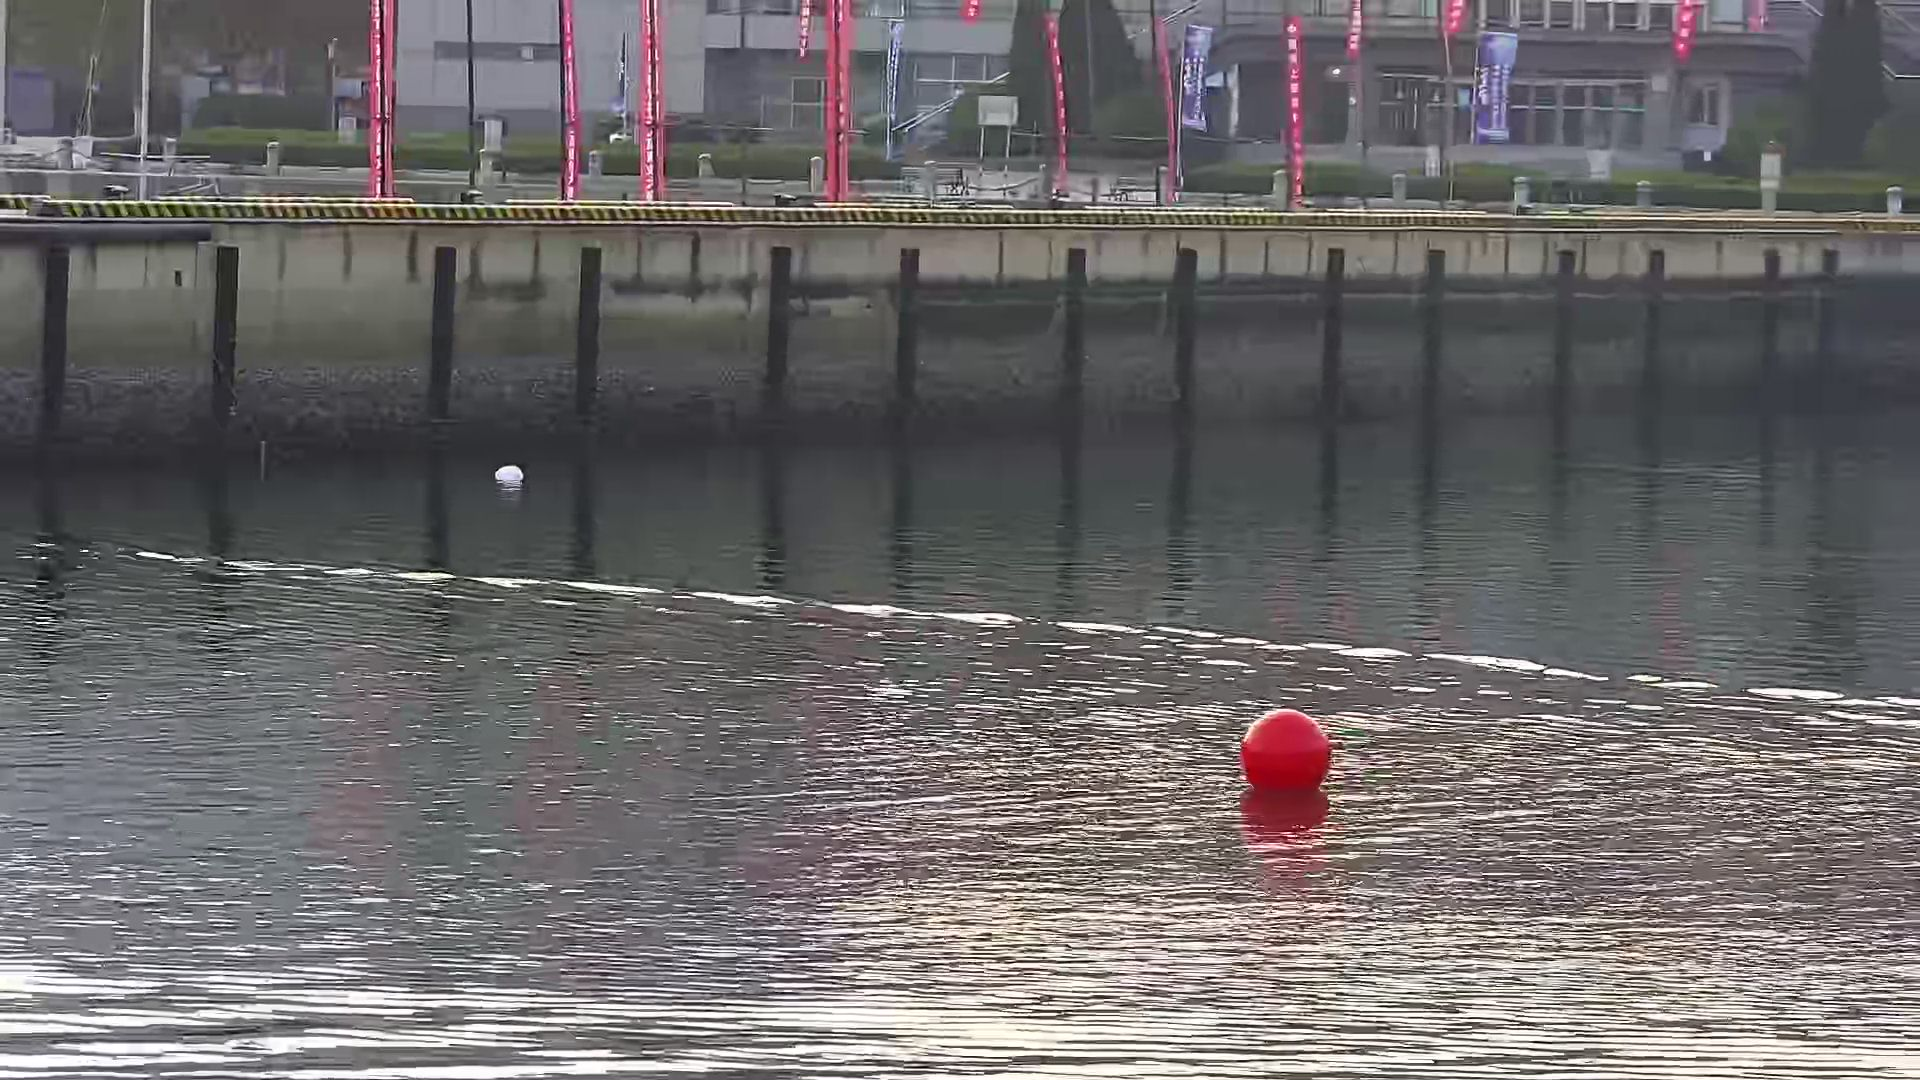ball: (1228, 702, 1337, 798)
rubbish: (491, 460, 524, 489)
